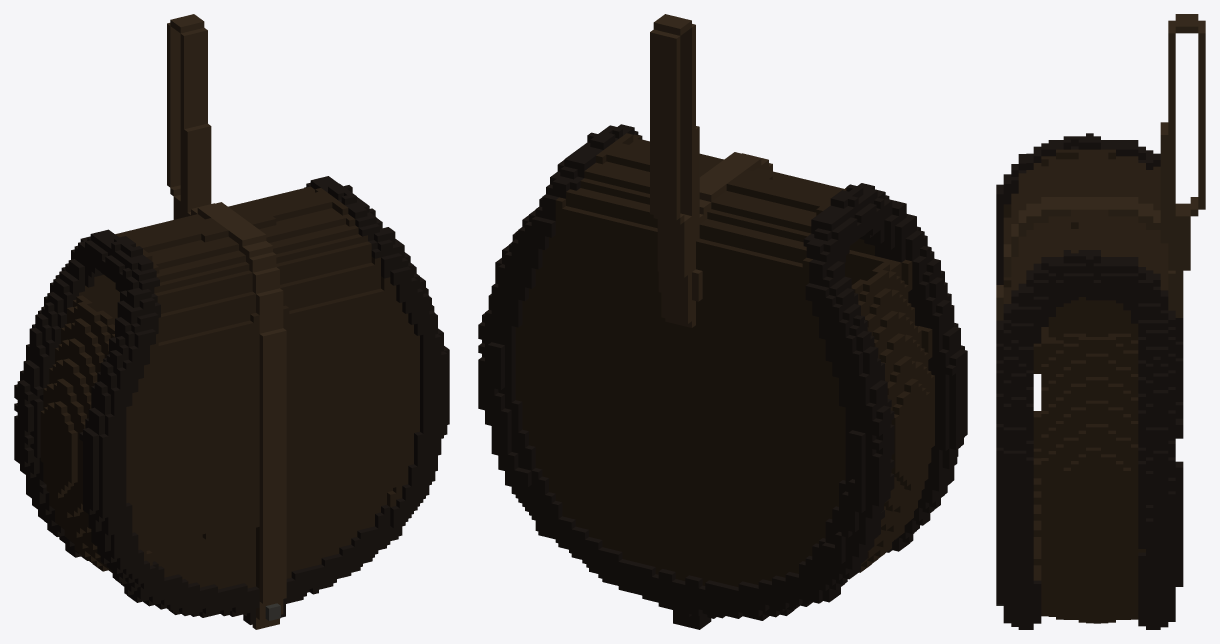
The model's file is BeltBag-Leather-Large.obj.
3 renders of one model, left to right at view 1: azimuth 30°, elevation 25°; view 2: azimuth 150°, elevation 25°; view 3: azimuth 270°, elevation 25°, orthographic. The views are drawn at different scales.
Size of the model in its own units: 6 by 8.8 by 2.8.
Materials: 1 (1 with a texture image).
